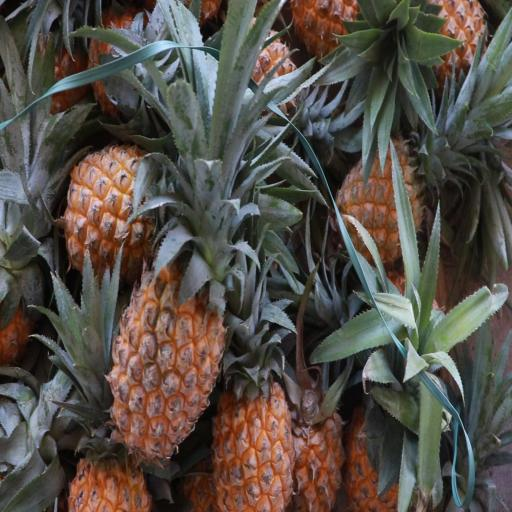Pineapple - v8 v1: (100, 226, 229, 468), (61, 134, 200, 294), (333, 124, 432, 278), (208, 367, 297, 512), (66, 366, 154, 512), (294, 377, 348, 512)
